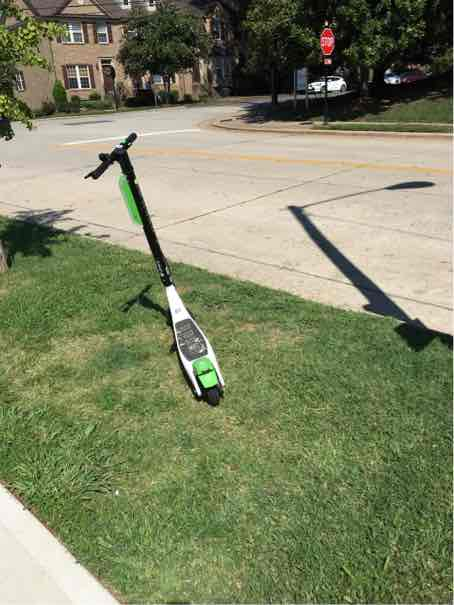scooter: (77, 124, 241, 420)
